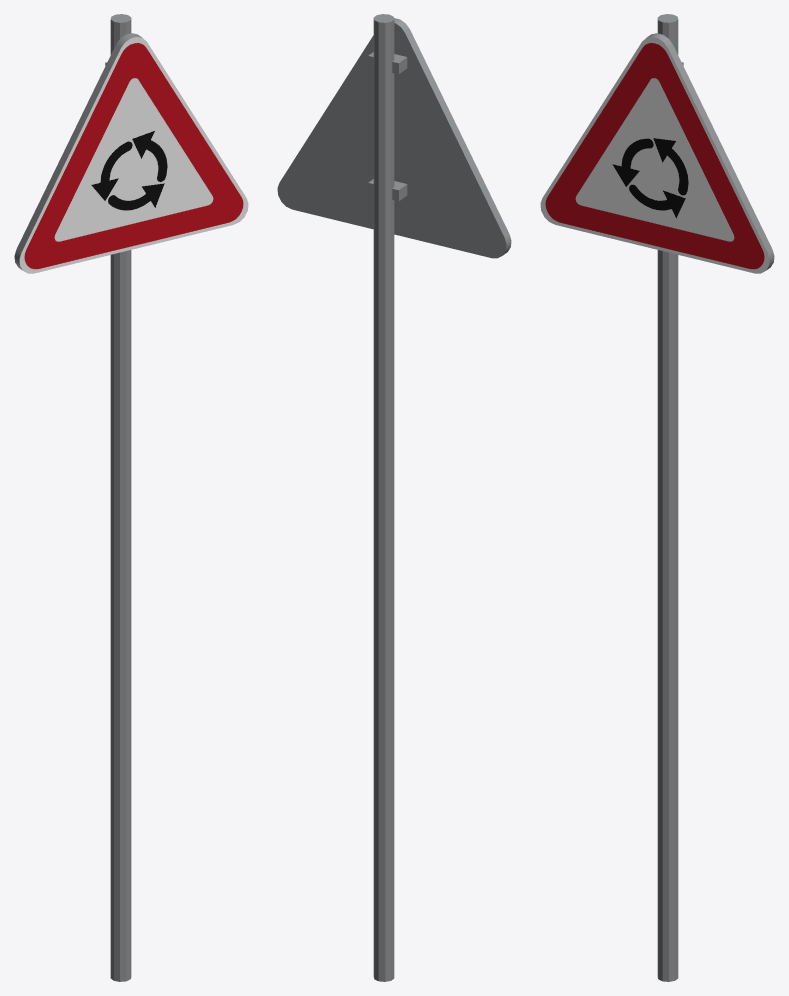
The model's file is sign-roundabout.glb.
The picture shows the model from 3 angles, left to right: view 1: azimuth 30°, elevation 25°; view 2: azimuth 150°, elevation 25°; view 3: azimuth 330°, elevation 25°; orthographic projection.
Visible parts, largest first — view 1: sign-roundabout; view 2: sign-roundabout; view 3: sign-roundabout.
Part boxes in pixels (left/top/right/bottom): sign-roundabout: left=14, top=14, right=248, bottom=981; sign-roundabout: left=277, top=14, right=511, bottom=981; sign-roundabout: left=540, top=14, right=774, bottom=981.
Bounding box in the file's own units: 0.7474 × 2.99 × 0.103.
Materials: 1 (1 with a texture image).
